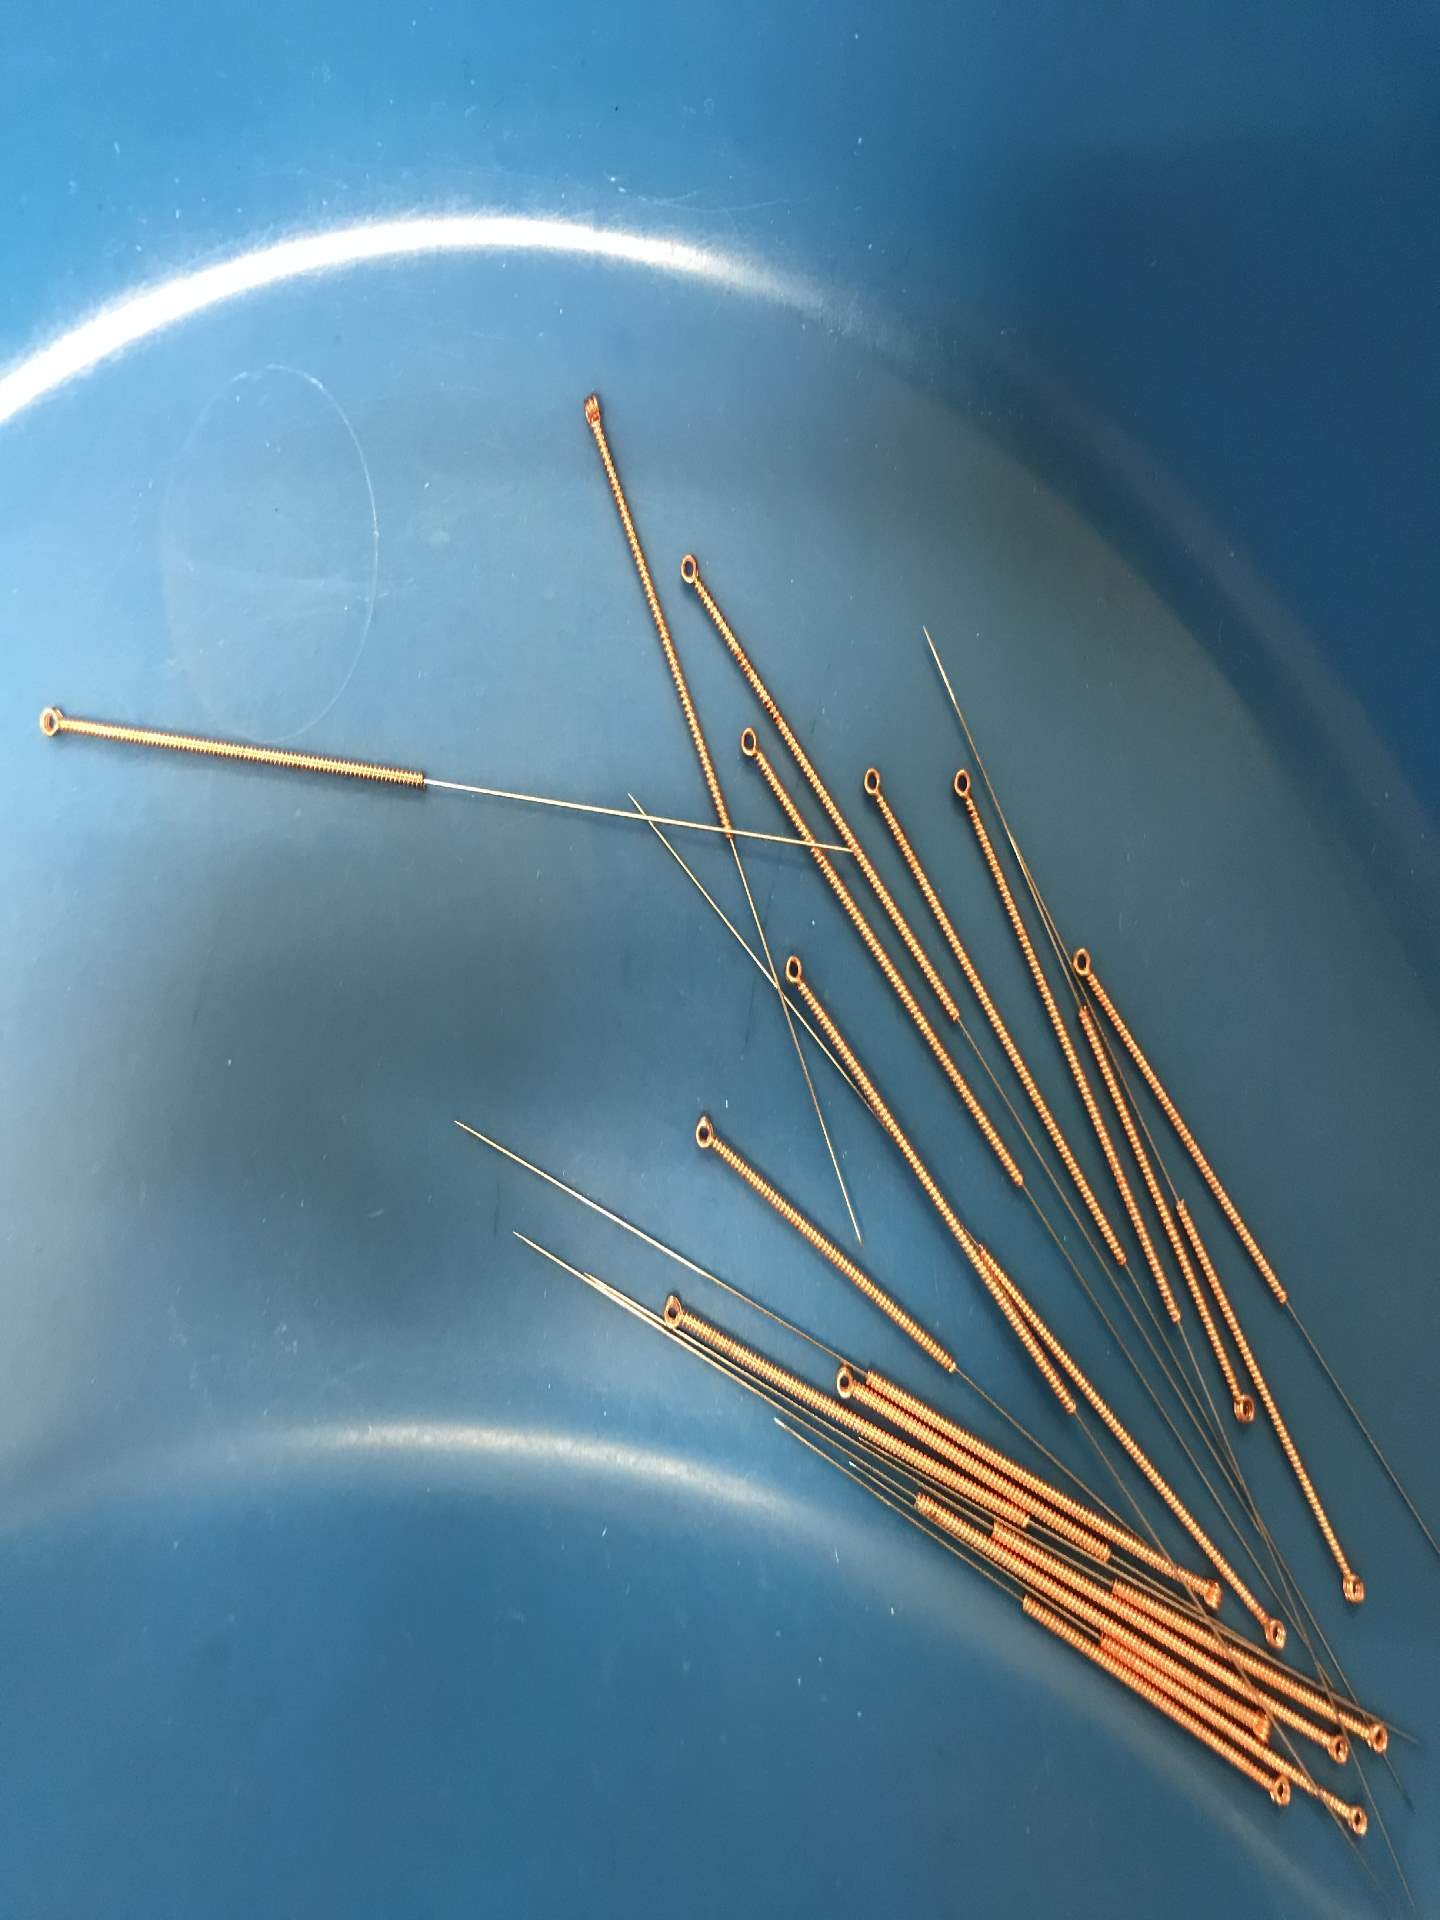needle: (29, 694, 79, 748), (649, 1285, 697, 1338), (569, 384, 614, 438), (684, 1107, 728, 1161), (1333, 1559, 1373, 1609), (1065, 937, 1103, 990), (670, 544, 709, 594), (1254, 1604, 1293, 1654), (856, 757, 892, 810), (942, 760, 980, 810), (1336, 1795, 1375, 1841), (731, 720, 768, 768), (1355, 1714, 1395, 1760), (1190, 1575, 1228, 1618), (1227, 1383, 1258, 1432), (777, 946, 809, 993), (1319, 1726, 1355, 1767), (829, 1361, 864, 1403), (1246, 1705, 1277, 1748), (1265, 1773, 1296, 1810)
